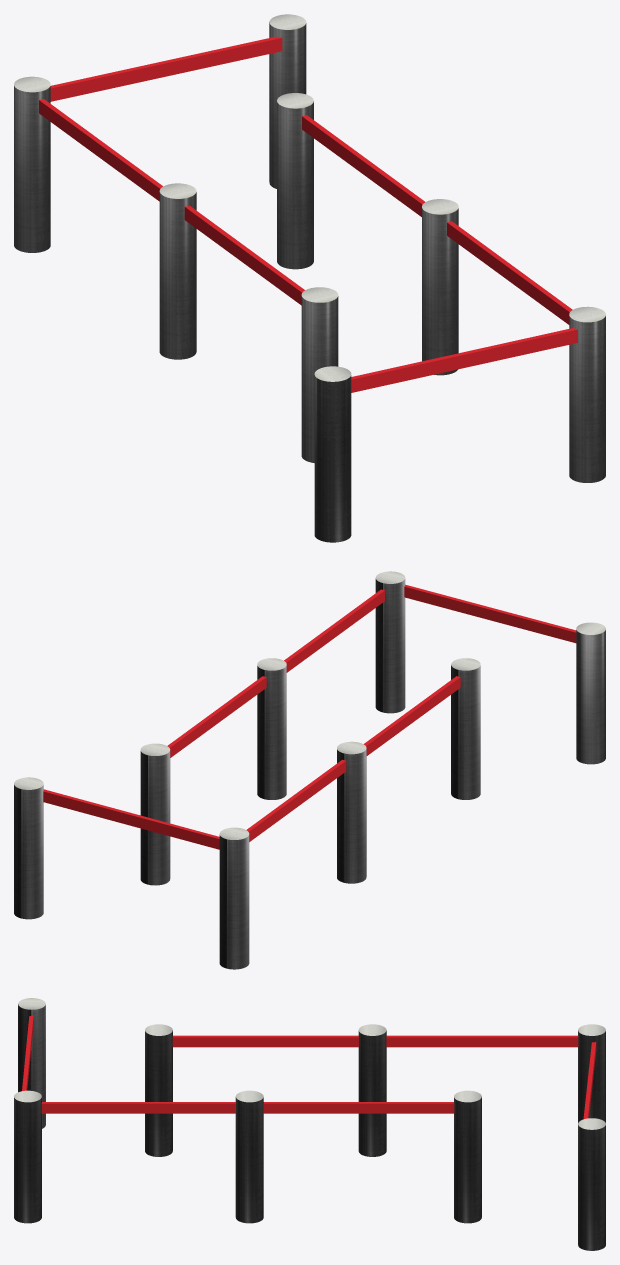
The model's file is separadores.obj.
3 views of the same model, one above another, from view 1: azimuth 30°, elevation 25°; view 2: azimuth 150°, elevation 25°; view 3: azimuth 270°, elevation 25° (orthographic). The views are drawn at different scales.
Parts seen in each view (by area): view 1: Cilindro.001, Cubo.001; view 2: Cilindro.001, Cubo.001; view 3: Cilindro.001, Cubo.001.
Boxes of the visible parts, bbox=[...] form: Cilindro.001: bbox=[14, 14, 605, 542]; Cubo.001: bbox=[39, 36, 577, 392]; Cilindro.001: bbox=[14, 571, 605, 969]; Cubo.001: bbox=[43, 584, 576, 849]; Cilindro.001: bbox=[14, 998, 605, 1250]; Cubo.001: bbox=[22, 1016, 596, 1118].
Bounding box in the file's own units: 3.76 × 1.61 × 7.13.
